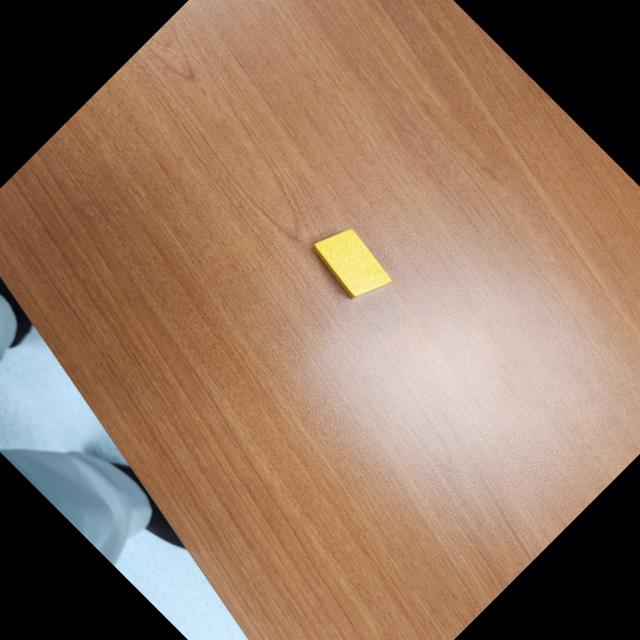yellow: (300, 215, 397, 312)
